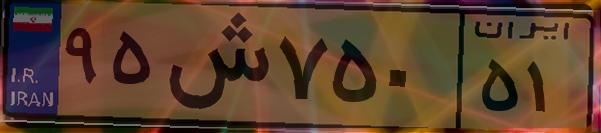0: (385, 28, 445, 110)
1: (525, 38, 570, 115)
5: (330, 28, 385, 110), (475, 38, 525, 113), (110, 28, 158, 98)
7: (270, 28, 330, 110)
9: (57, 26, 110, 100)
ش: (158, 12, 270, 120)
